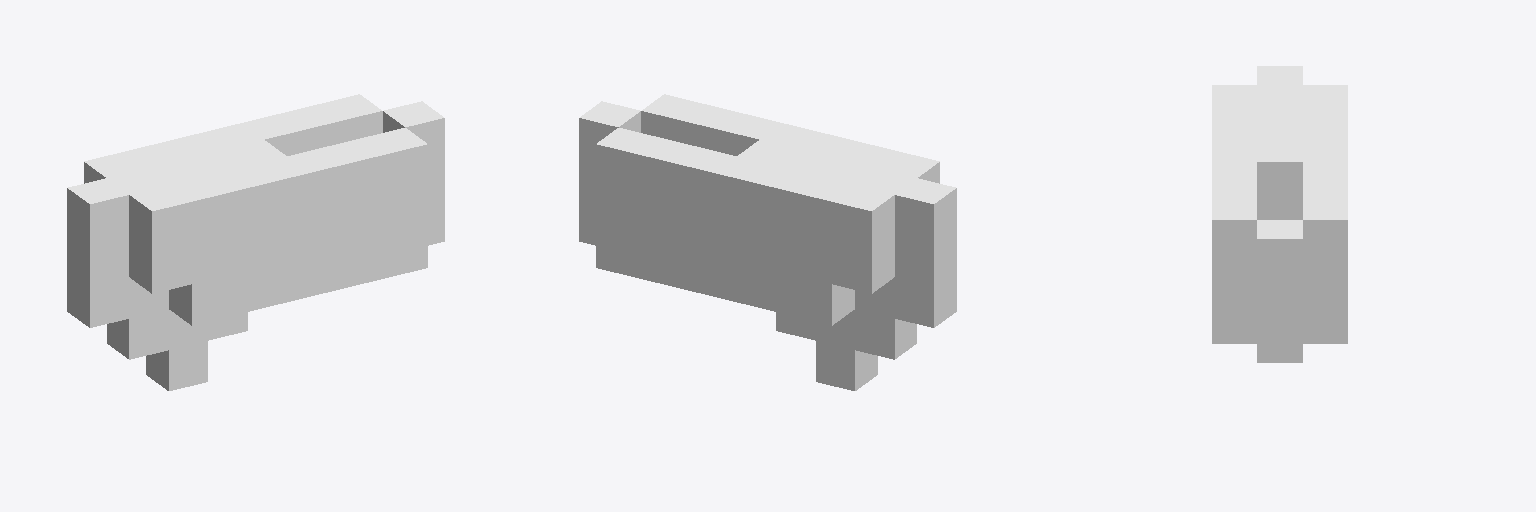
File: AxeHead01.obj
3 views of the same model, side by side, from view 1: azimuth 30°, elevation 25°; view 2: azimuth 150°, elevation 25°; view 3: azimuth 270°, elevation 25° (orthographic).
Visible parts, largest first — view 1: object 1; view 2: object 1; view 3: object 1.
Boxes of the visible parts, x1=… form: object 1: x1=67, y1=94, x2=444, y2=390; object 1: x1=579, y1=94, x2=956, y2=390; object 1: x1=1212, y1=66, x2=1347, y2=362.
Bounding box in the file's own units: 0.9 × 0.5 × 0.3.